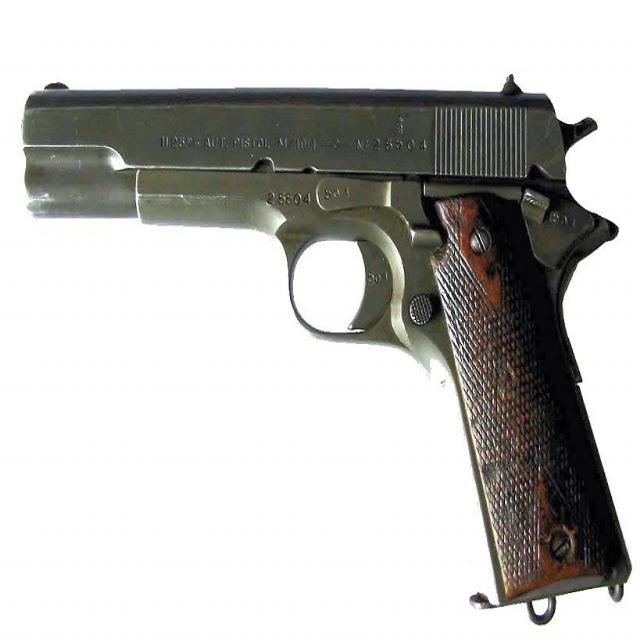pistol: (21, 70, 633, 630)
